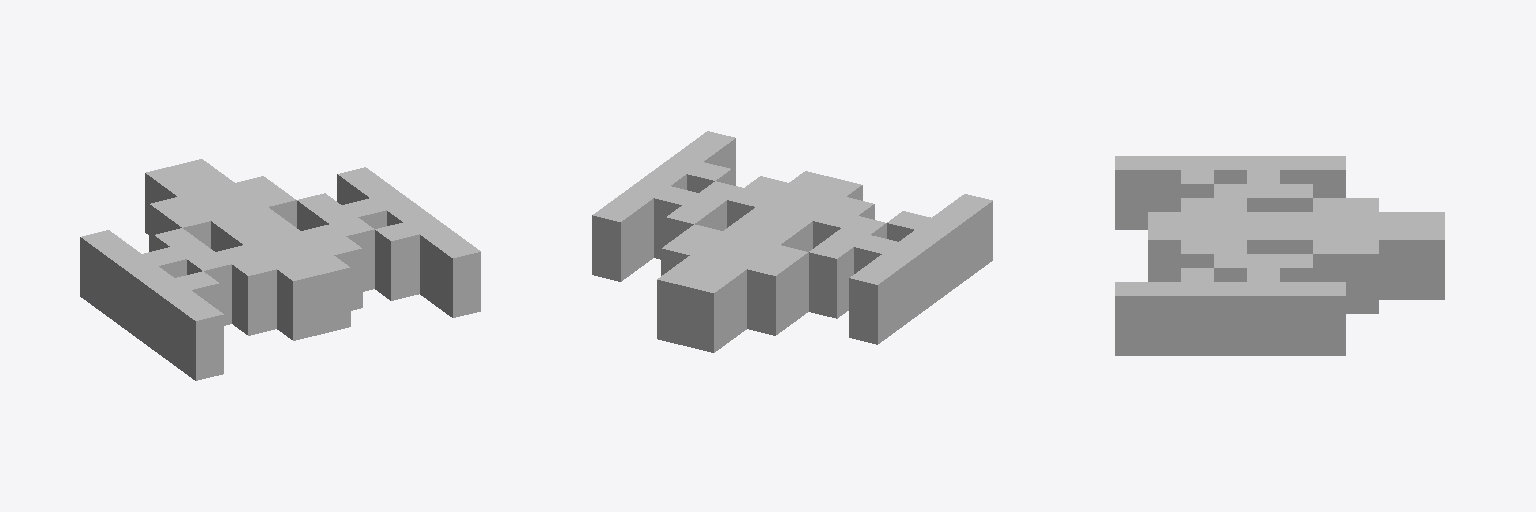
File: Red Ship.obj
The picture shows the model from 3 angles: view 1: azimuth 30°, elevation 25°; view 2: azimuth 150°, elevation 25°; view 3: azimuth 270°, elevation 25°; orthographic projection.
Visible parts, largest first — view 1: Red_Ship:Mesh; view 2: Red_Ship:Mesh; view 3: Red_Ship:Mesh.
Part boxes in pixels (left/top/right/bottom): Red_Ship:Mesh: left=80, top=159, right=480, bottom=380; Red_Ship:Mesh: left=592, top=131, right=992, bottom=352; Red_Ship:Mesh: left=1115, top=156, right=1444, bottom=355.
Size of the model in its own units: 1 by 0.2 by 1.